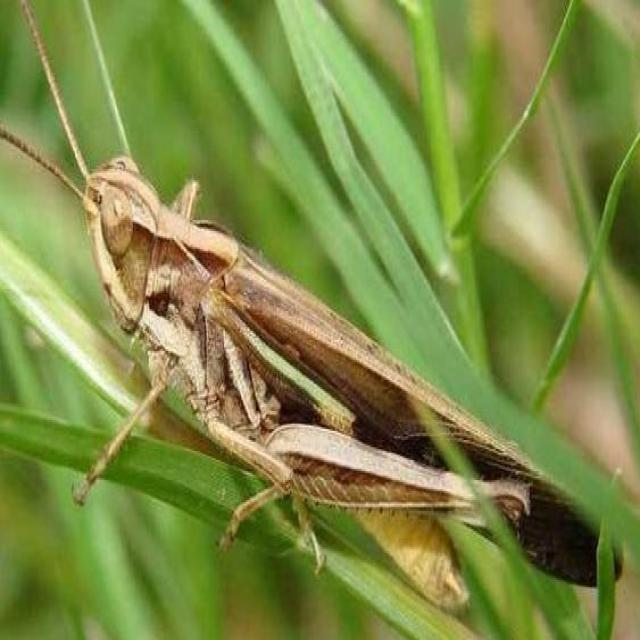ZhaMeng: (46, 102, 607, 598)
